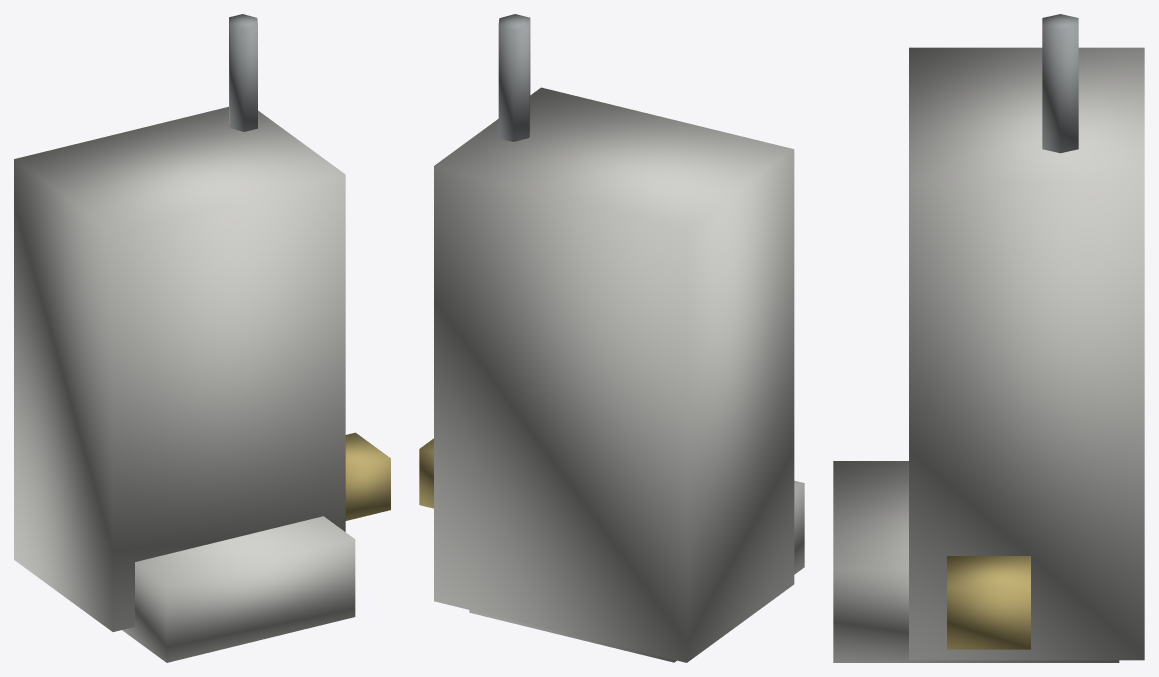
File: urinal_05.glb
3 renders of one model, left to right at view 1: azimuth 30°, elevation 25°; view 2: azimuth 150°, elevation 25°; view 3: azimuth 270°, elevation 25°, orthographic. The views are drawn at different scales.
Parts seen in each view (by area): view 1: world; view 2: world; view 3: world.
Part boxes in pixels (left/top/right/bottom): world: left=14, top=14, right=390, bottom=662; world: left=419, top=14, right=804, bottom=662; world: left=833, top=14, right=1144, bottom=662.
Bounding box in the file's own units: 0.4664 × 0.8036 × 0.3589.
